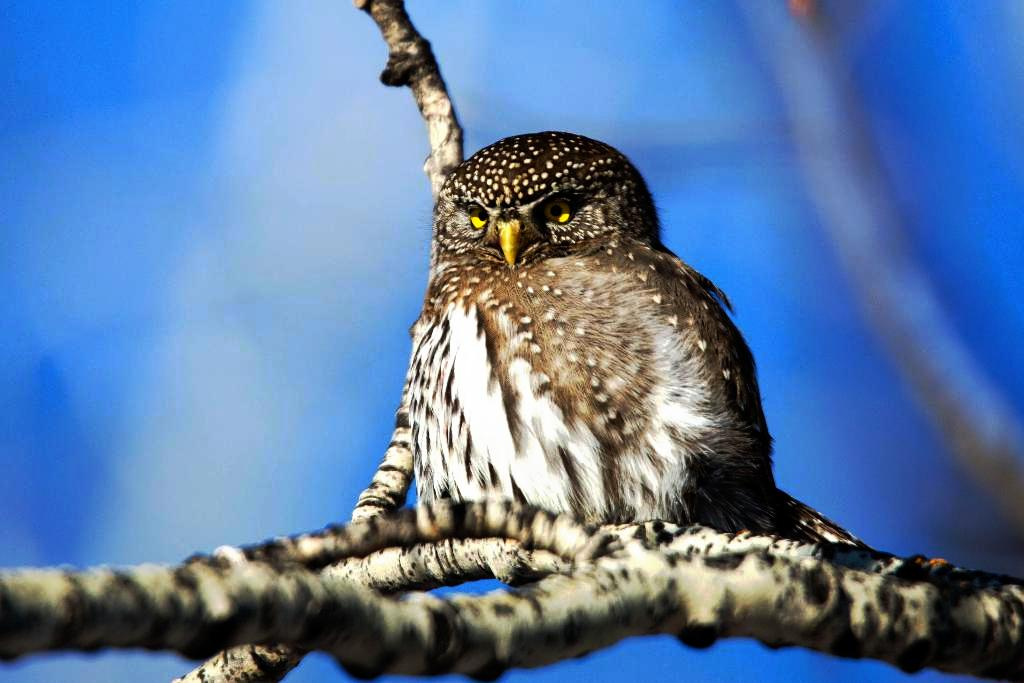Owl: (404, 126, 888, 552)
